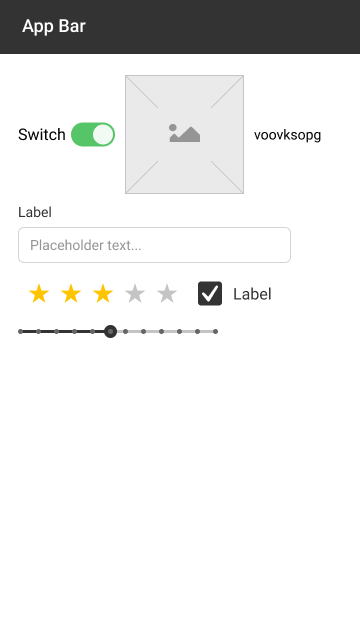checkBox: (195, 278, 274, 309)
editText: (17, 226, 295, 266)
imageView: (122, 73, 247, 195)
ratingBar: (22, 276, 184, 309)
slider: (15, 325, 226, 338)
switch: (11, 123, 117, 150)
textView: (254, 128, 322, 147), (10, 204, 61, 221)
toolbar: (1, 2, 360, 55)
